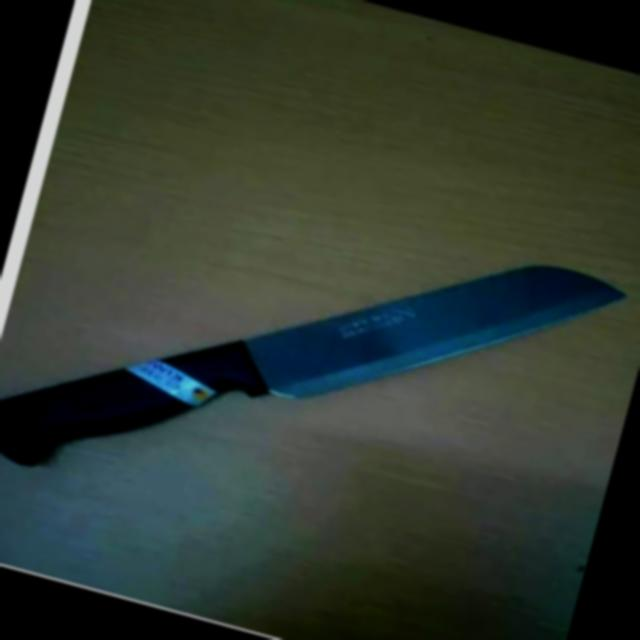knife: (0, 116, 636, 618)
